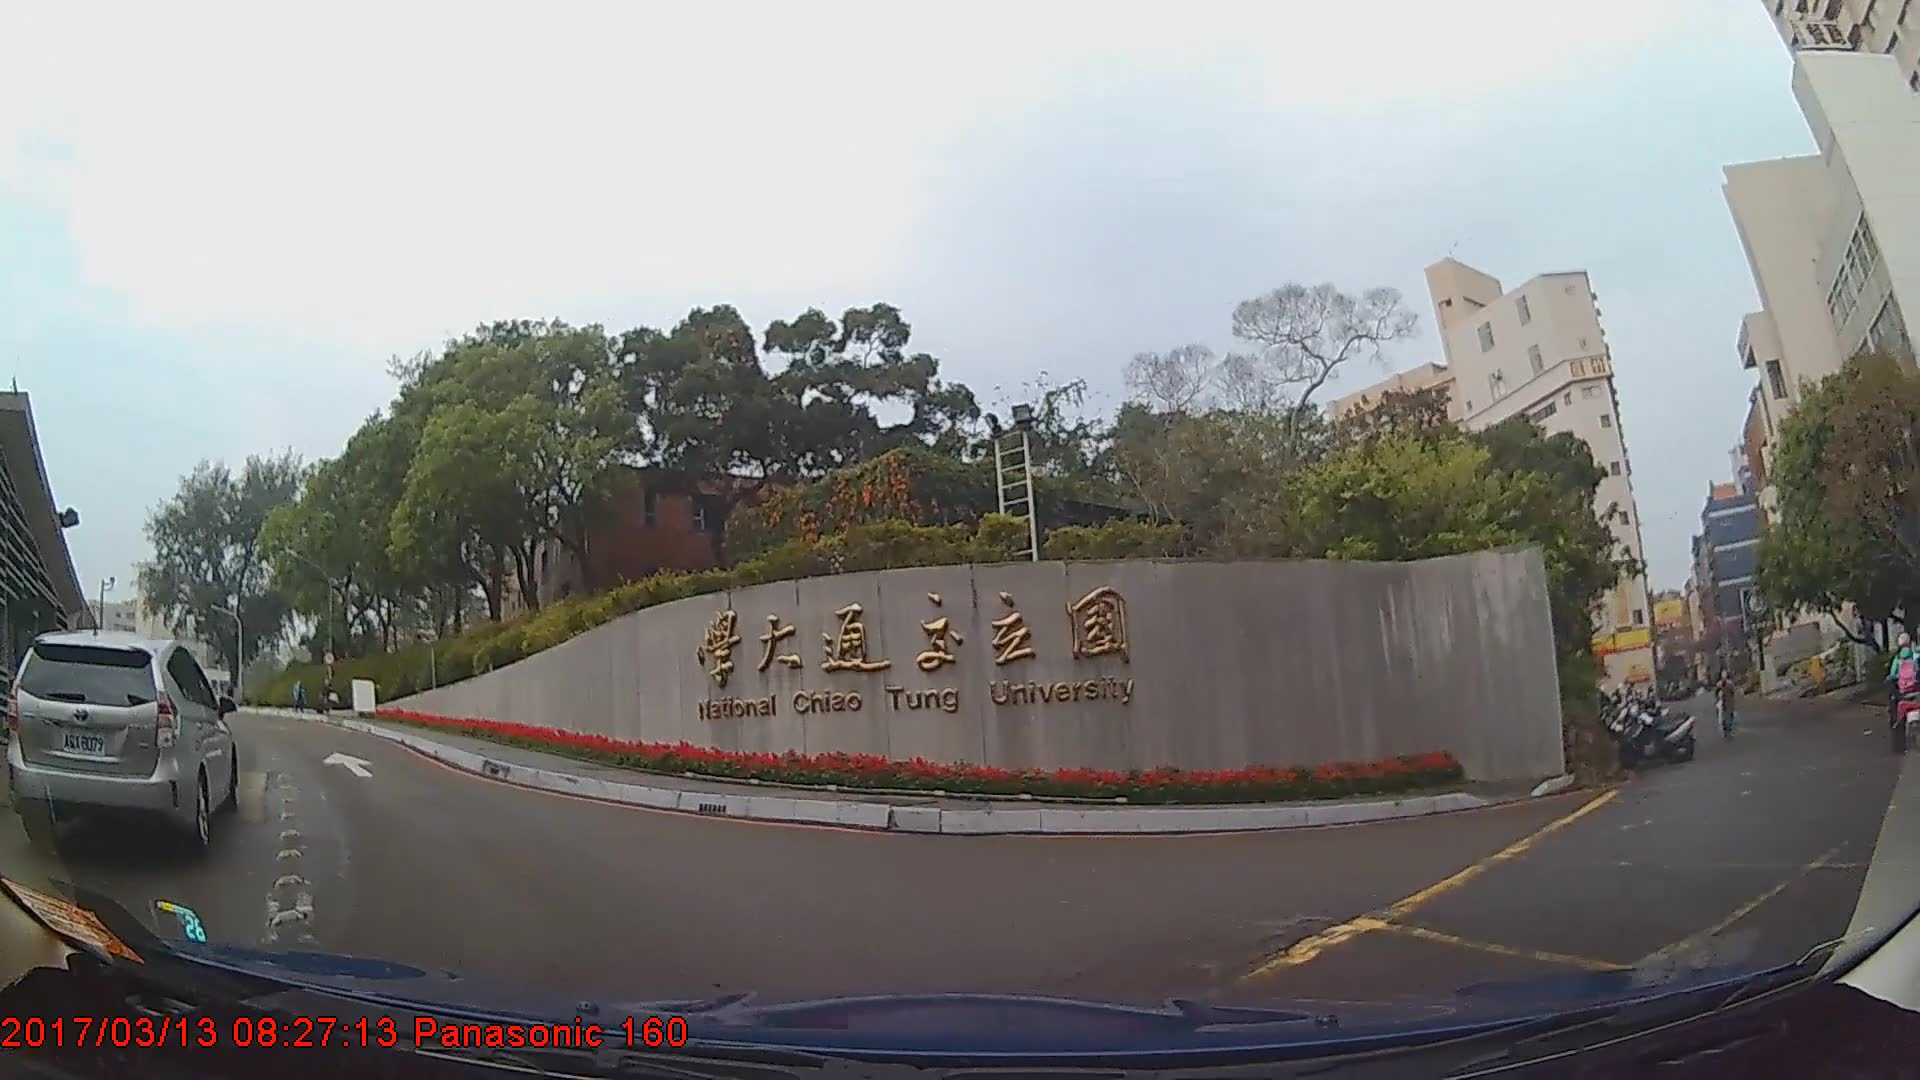pedestrian: (1713, 668, 1741, 742)
rider: (1889, 634, 1920, 735)
vehicle: (7, 627, 238, 856)
